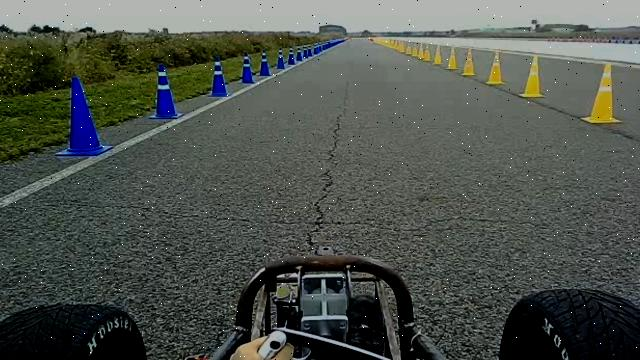blue cone: (55, 75, 113, 157), (148, 63, 180, 119), (207, 55, 230, 97), (240, 52, 254, 84), (258, 50, 271, 76), (276, 48, 285, 70), (287, 47, 296, 65)
yellow cone: (580, 63, 623, 124), (518, 55, 545, 98), (485, 50, 505, 85), (461, 48, 476, 76), (445, 47, 458, 70), (433, 44, 442, 65)
